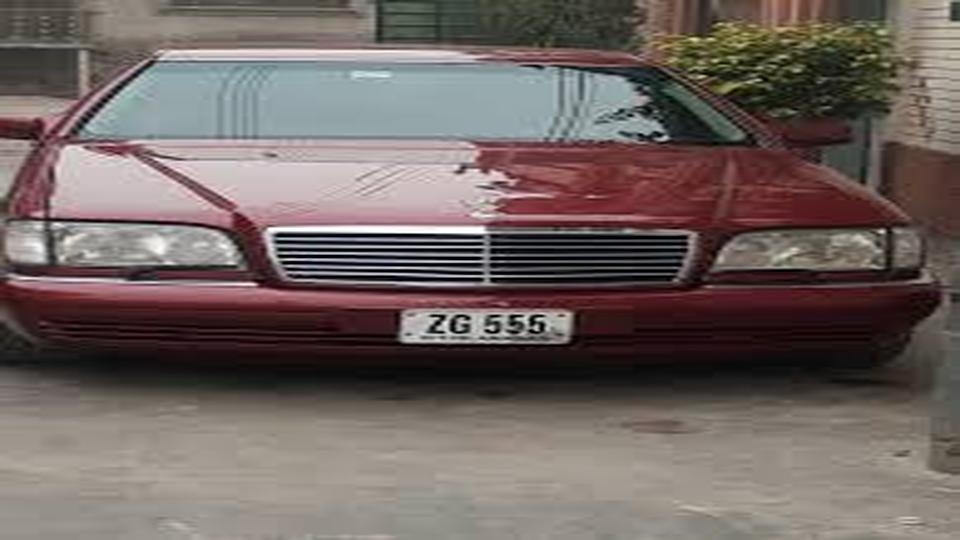NumberPlate: (402, 310, 582, 352)
